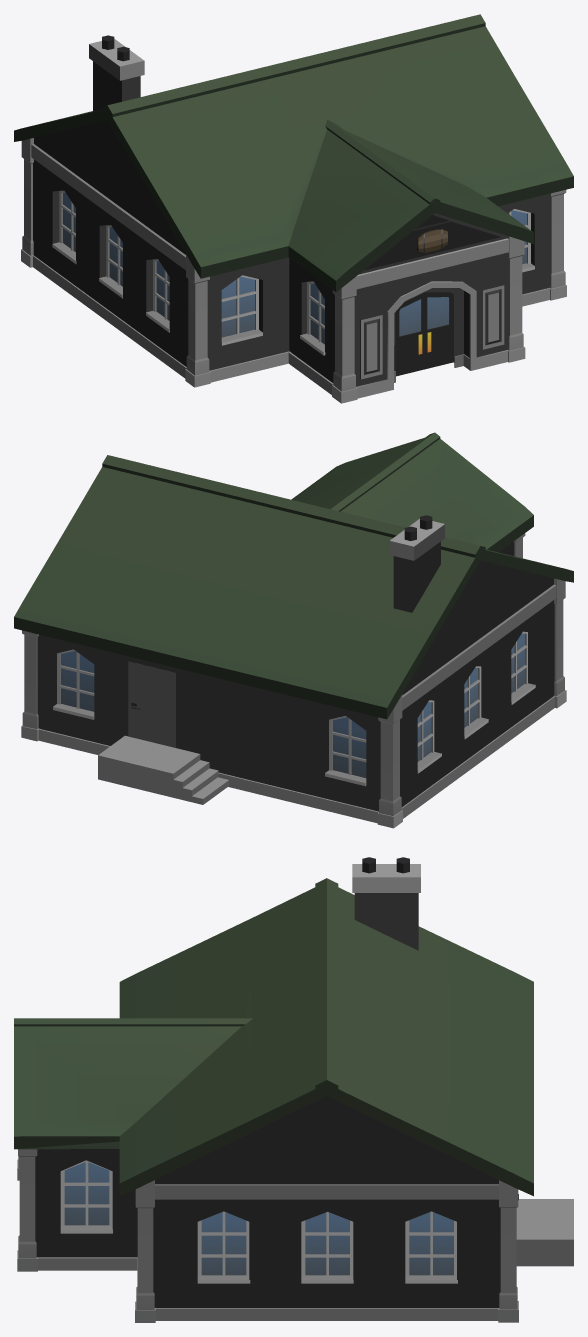
File: Business_Pub.glb
The picture shows the model from 3 angles, top to bottom: view 1: azimuth 30°, elevation 25°; view 2: azimuth 150°, elevation 25°; view 3: azimuth 270°, elevation 25°; orthographic projection. The views are drawn at different scales.
Parts seen in each view (by area): view 1: base.064, windowRefl.046; view 2: base.064, windowRefl.046; view 3: base.064, windowRefl.046.
Part boxes in pixels (x1,y1,x2,y2): base.064: [14, 14, 573, 403]; windowRefl.046: [63, 192, 526, 344]; base.064: [14, 432, 573, 828]; windowRefl.046: [61, 633, 524, 777]; base.064: [14, 857, 573, 1322]; windowRefl.046: [64, 1162, 453, 1275].
Size of the model in its own units: 15.45 by 9.98 by 18.11.
